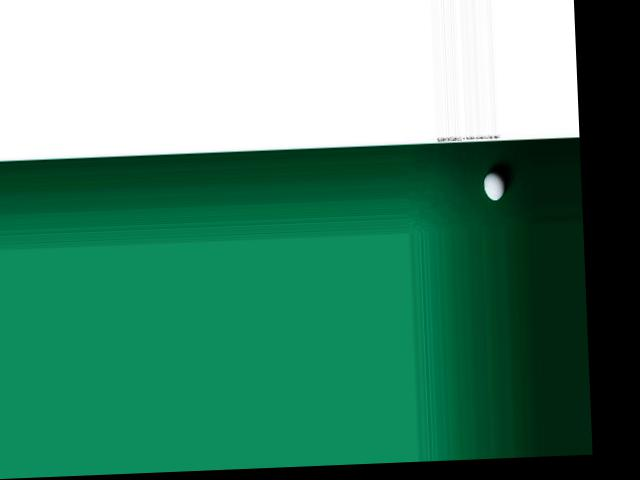egg: (482, 170, 504, 200)
